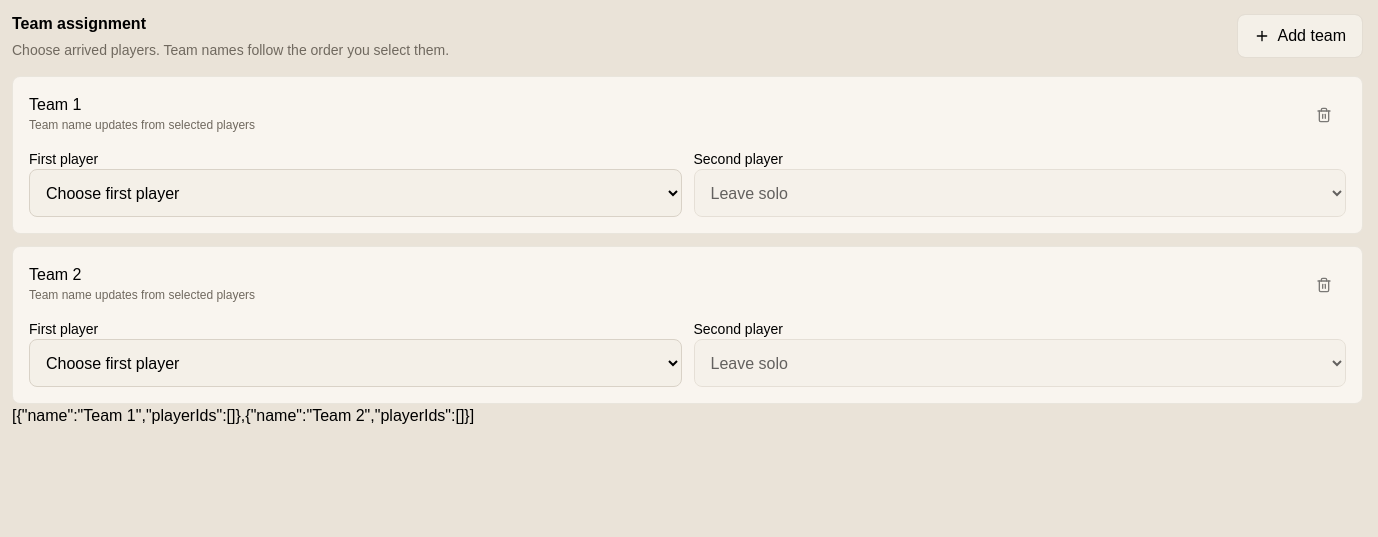
Test: TeamAssignmentEditor › uses the email local part for legacy names and explains solo teams
This screenshot has width=1378, height=537.
Select "legacy.person@example.test · legacy.person@example.test" in the dropdown named "Team 1, first player" at (355, 193), box [29,169,682,217]
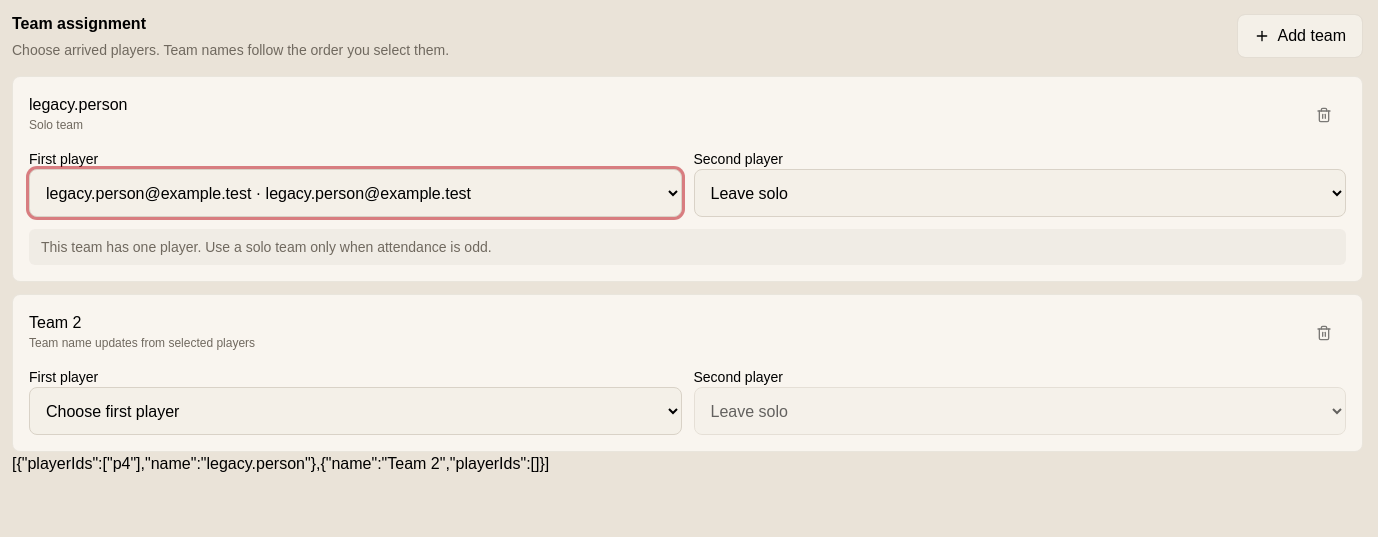
Check: the text named "Current assignments" shows "legacy.person", box [12,455,549,472]
Check: the text "Use a solo team only when attendance is odd" is shown, box [41,239,492,255]
Select "Alex Morgan · alex@example.test" in the dropdown named "Team 2, first player" at (355, 411), box [29,387,682,435]
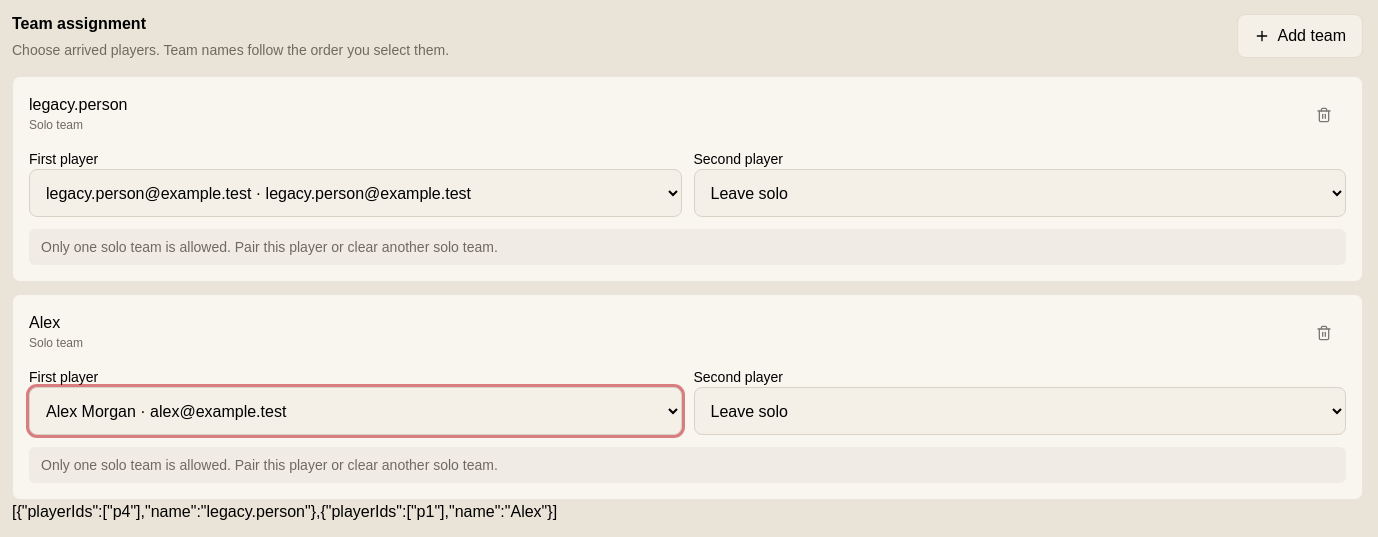
Check: the 1st text "Only one solo team is allowed" is shown, box [41,239,498,255]
